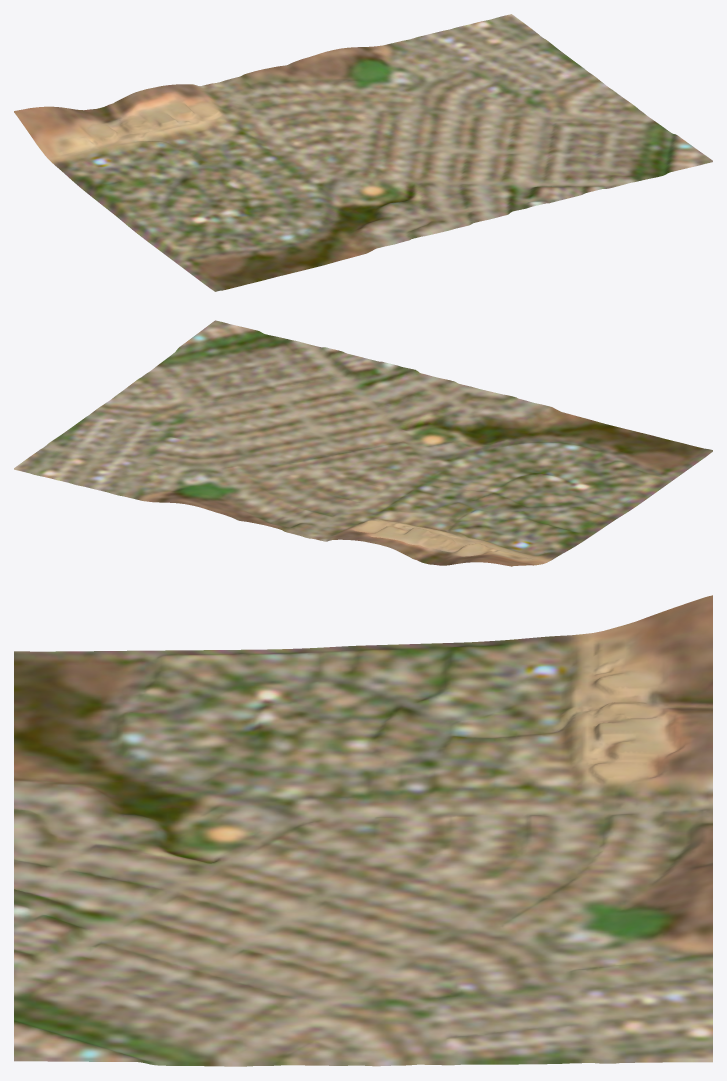
The model's file is terrain_r2_c4.glb.
The picture shows the model from 3 angles, top to bottom: view 1: azimuth 30°, elevation 25°; view 2: azimuth 150°, elevation 25°; view 3: azimuth 270°, elevation 25°; orthographic projection. The views are drawn at different scales.
Visible parts, largest first — view 1: terrain_r2_c4_lod0; view 2: terrain_r2_c4_lod0; view 3: terrain_r2_c4_lod0.
Part boxes in pixels (<box>): terrain_r2_c4_lod0: <box>14,14,712,291</box>; terrain_r2_c4_lod0: <box>14,320,712,566</box>; terrain_r2_c4_lod0: <box>14,595,712,1066</box>.
Bounding box in the file's own units: 1125 × 73.75 × 787.
1 material, 1 textured.
